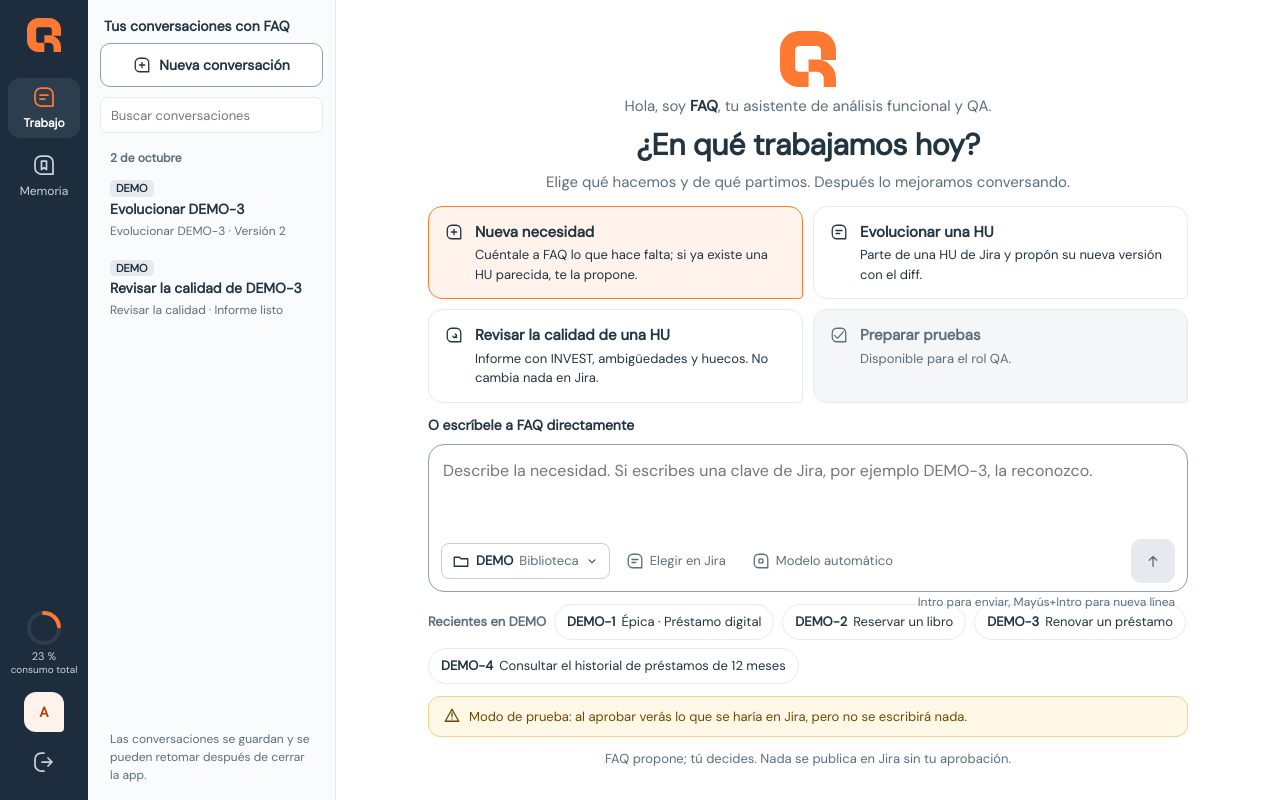
Generando: huecos (UI.md §4.4, DESIGN-DECISIONS.md §4 bis) › un error de la generación con la conversación entera usa sus pasos y su code (rate_limited → Reintentar con espera)
Expected: the button with aria-label "Proyecto de Jira: DEMO" is shown, left=441, top=543, right=610, bottom=579
Click the text box at x=808, y=495, box left=441, top=457, right=1175, bottom=533
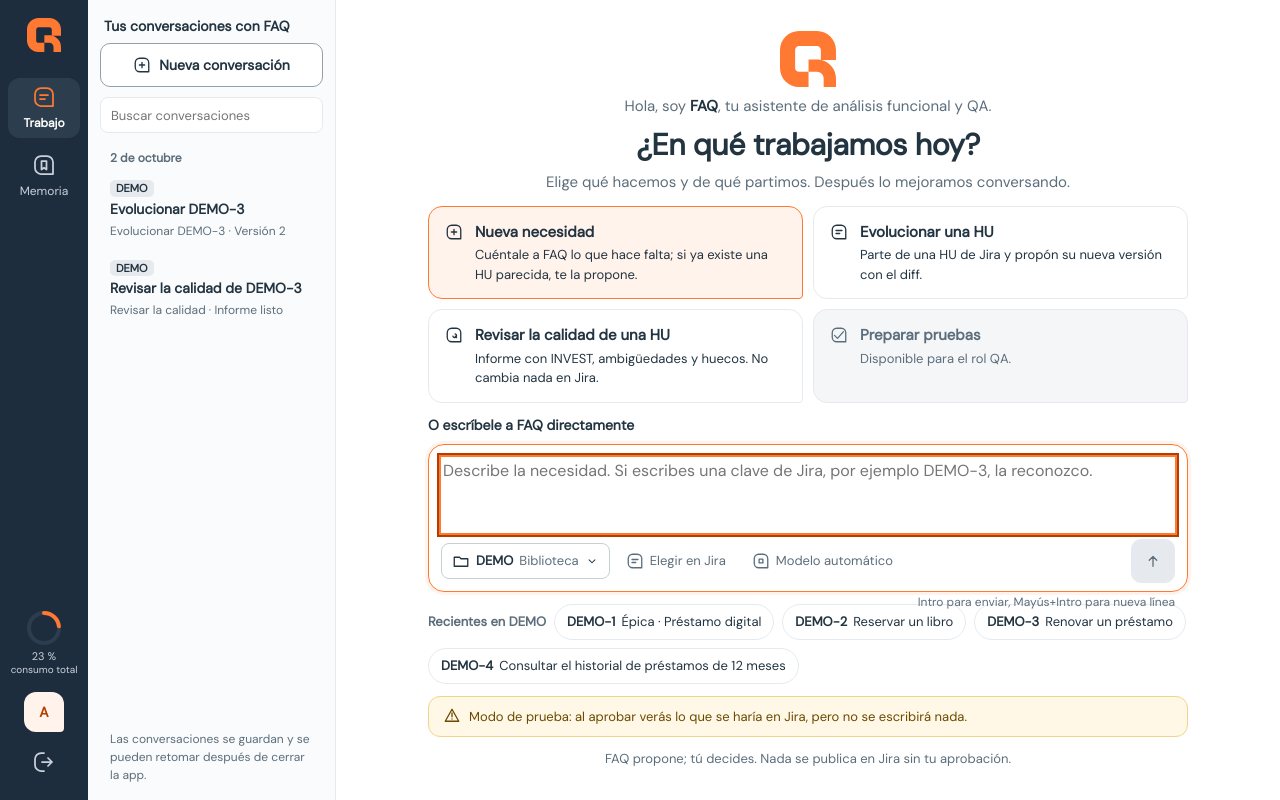
Type keys "Renovar un préstamo desde la app"
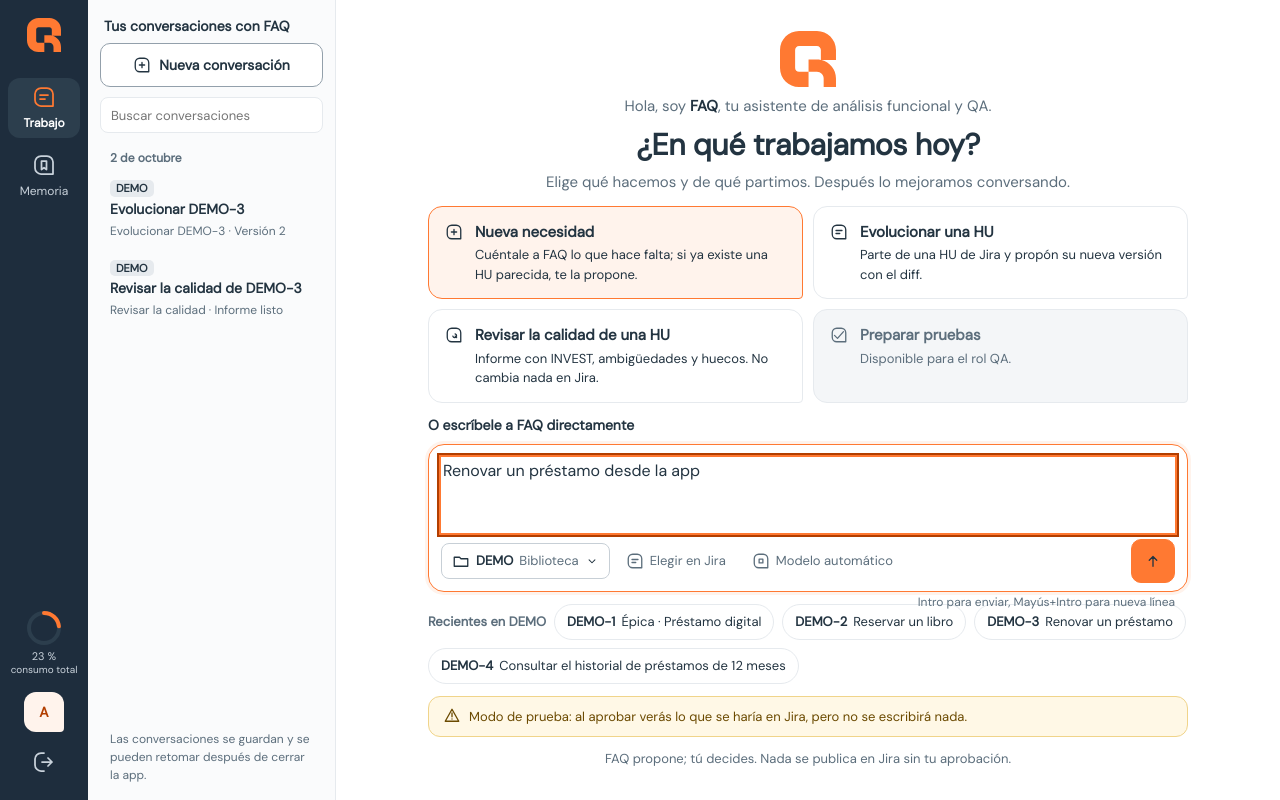
Click the button named "Continuar" at x=1153, y=561, box left=1131, top=539, right=1175, bottom=583
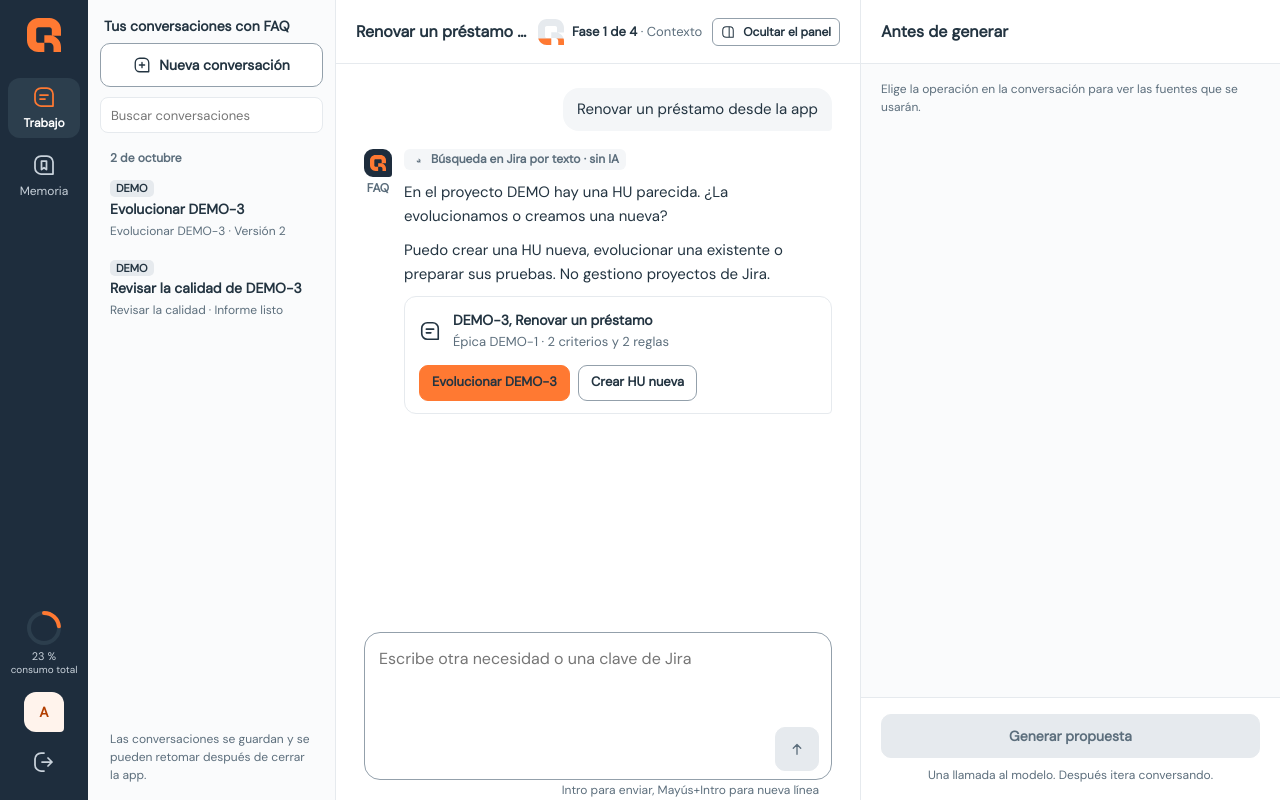
Click the button "Evolucionar DEMO-3" at x=494, y=383, box left=419, top=365, right=570, bottom=401
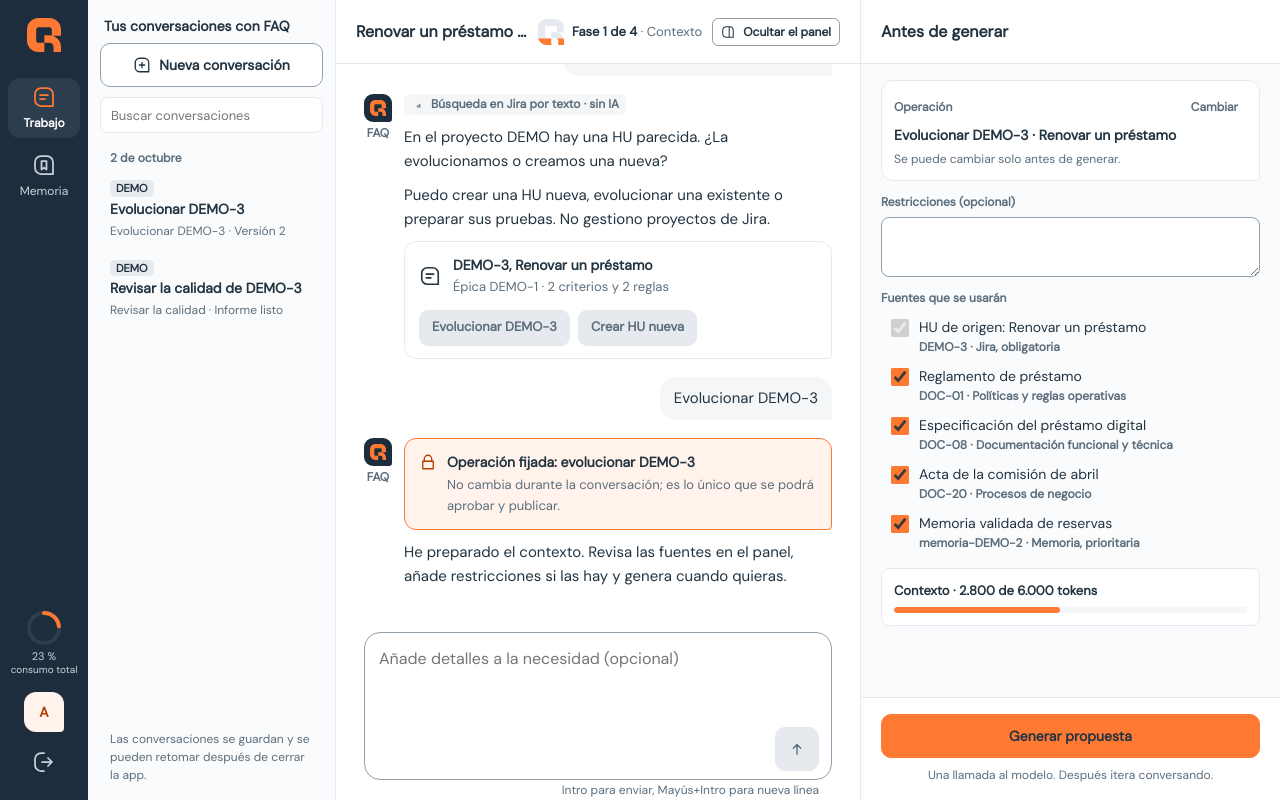
Result: the checkbox labelled "HU de origen: Renovar un préstamo DEMO-3 · Jira, obligatoria" is shown at left=891, top=319, right=909, bottom=337
Click the button "Generar propuesta" at x=1070, y=736, box left=881, top=714, right=1260, bottom=758
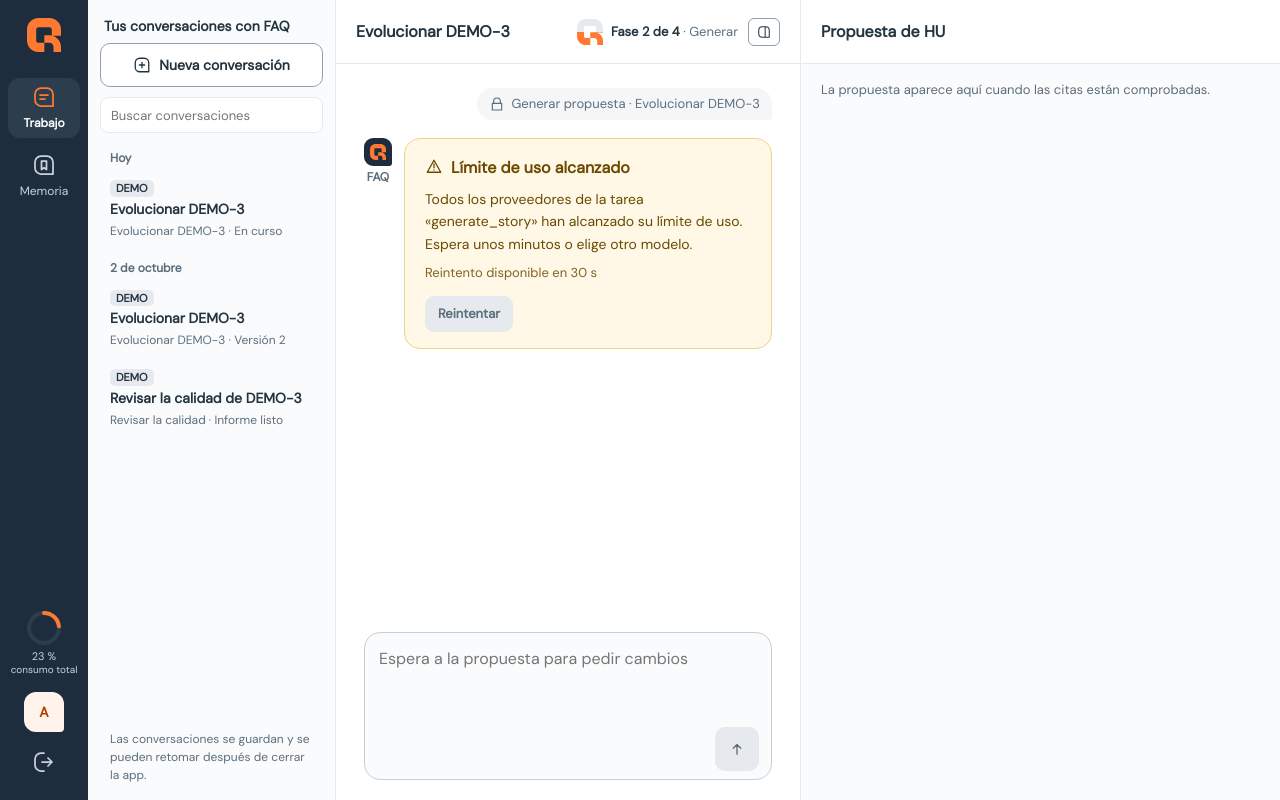
Result: the picture named "Avance: fase 2 de 4, Generar" is shown at left=577, top=18, right=738, bottom=44
Result: the heading "Límite de uso alcanzado" is shown at left=425, top=154, right=630, bottom=180
Result: the message shows "Todos los proveedores de la tarea «generate_story» han alcanzado su límite de uso." at left=425, top=190, right=742, bottom=253
